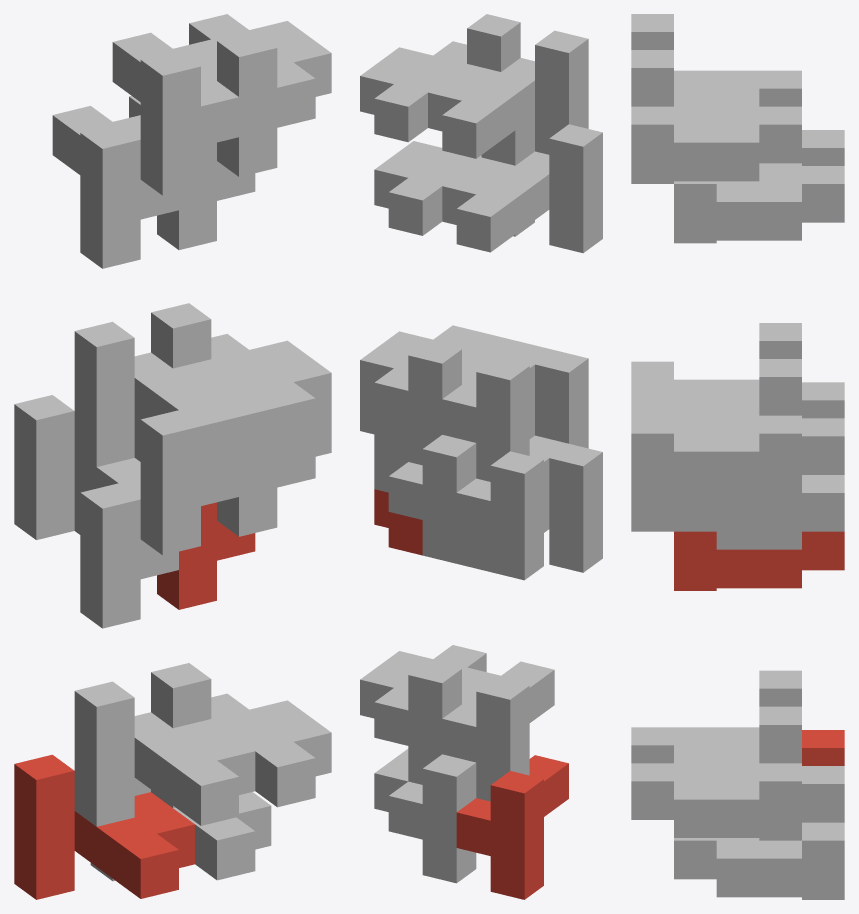
File: tiling.obj
3 views of the same model, side by side, from view 1: azimuth 30°, elevation 25°; view 2: azimuth 150°, elevation 25°; view 3: azimuth 270°, elevation 25° (orthographic). The views are drawn at different scales.
Parts seen in each view (by area): view 1: copy_1_domain_2, copy_1_domain_1, copy_1_domain_4, copy_2_domain_4, copy_2_domain_8, copy_2_domain_3, copy_1_domain_6, copy_1_domain_8, copy_1_domain_3, copy_2_domain_2, copy_2_domain_1, copy_2_domain_6 (+3 smaller); view 2: copy_2_domain_3, copy_2_domain_4, copy_1_domain_1, copy_1_domain_2, copy_1_domain_6, copy_1_domain_8, copy_2_domain_8, copy_1_domain_3, copy_1_domain_4, copy_1_domain_5, copy_2_domain_1, copy_1_domain_7 (+4 smaller); view 3: copy_2_domain_8, copy_1_domain_6, copy_1_domain_8, copy_1_domain_5, copy_2_domain_7, copy_2_domain_6, copy_2_domain_5, copy_1_domain_7, copy_1_domain_2, copy_2_domain_4, copy_1_domain_4, copy_2_domain_3 (+3 smaller).
Part boxes in pixels (box(x1,y1,x2,y2)): copy_1_domain_2: box(74, 681, 255, 826); copy_1_domain_1: box(14, 754, 194, 899); copy_1_domain_4: box(74, 321, 254, 466); copy_2_domain_4: box(112, 32, 238, 195); copy_2_domain_8: box(189, 14, 331, 176); copy_2_domain_3: box(52, 106, 178, 268); copy_1_domain_6: box(151, 663, 331, 807); copy_1_domain_8: box(151, 303, 331, 447); copy_1_domain_3: box(14, 395, 140, 539); copy_2_domain_2: box(134, 410, 238, 555); copy_2_domain_1: box(74, 483, 178, 628); copy_2_domain_6: box(217, 391, 331, 536); copy_2_domain_3: box(442, 124, 602, 253); copy_2_domain_4: box(428, 30, 588, 158); copy_1_domain_1: box(456, 755, 568, 899); copy_1_domain_2: box(442, 661, 554, 801); copy_1_domain_6: box(360, 645, 486, 784); copy_1_domain_8: box(360, 325, 486, 465); copy_2_domain_8: box(360, 14, 520, 142); copy_1_domain_3: box(456, 435, 568, 580); copy_1_domain_4: box(442, 342, 554, 481); copy_1_domain_5: box(374, 749, 476, 883); copy_2_domain_1: box(456, 444, 602, 572); copy_1_domain_7: box(374, 435, 476, 563); copy_2_domain_8: box(631, 50, 801, 183); copy_1_domain_6: box(631, 706, 801, 840); copy_1_domain_8: box(631, 359, 801, 490); copy_1_domain_5: box(674, 766, 844, 899); copy_2_domain_7: box(674, 166, 844, 243); copy_2_domain_6: box(631, 397, 801, 531); copy_2_domain_5: box(674, 531, 844, 590); copy_1_domain_7: box(674, 418, 844, 549); copy_1_domain_2: box(631, 670, 801, 763); copy_2_domain_4: box(631, 14, 801, 106); copy_1_domain_4: box(631, 323, 801, 415); copy_2_domain_3: box(759, 130, 844, 165).
Bounding box in the file's own units: 6 × 22 × 5.
